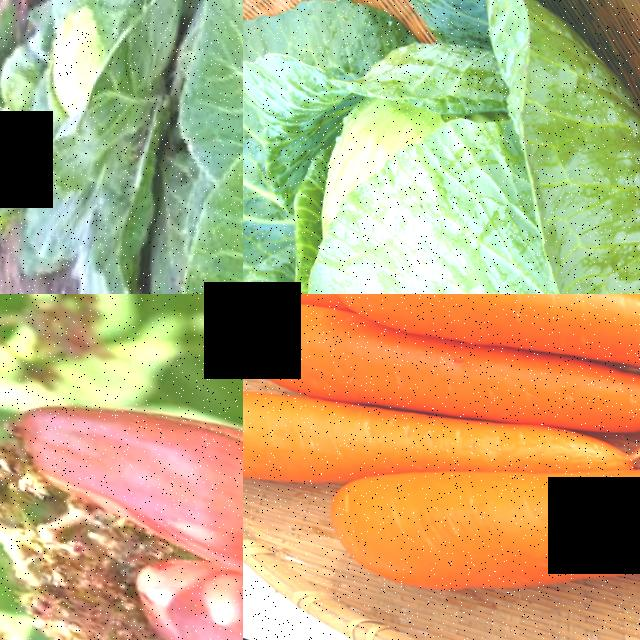cabbage: (243, 0, 640, 294), (0, 0, 238, 262), (124, 0, 243, 294)
carrot: (243, 294, 640, 486), (341, 442, 640, 640), (320, 294, 640, 419), (243, 367, 377, 509)
